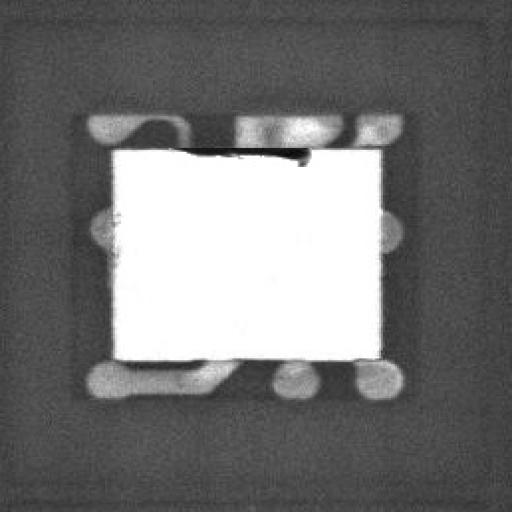DIE_BROKEN: (168, 138, 312, 167)
